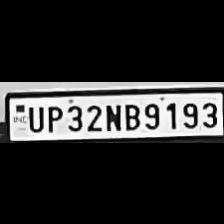1: (162, 98, 178, 128)
2: (84, 100, 103, 130)
3: (64, 101, 82, 131), (200, 98, 218, 128)
9: (141, 99, 161, 129), (179, 98, 199, 128)
B: (120, 99, 140, 129)
N: (104, 100, 120, 130)
P: (44, 103, 62, 132)
U: (24, 103, 43, 132)
